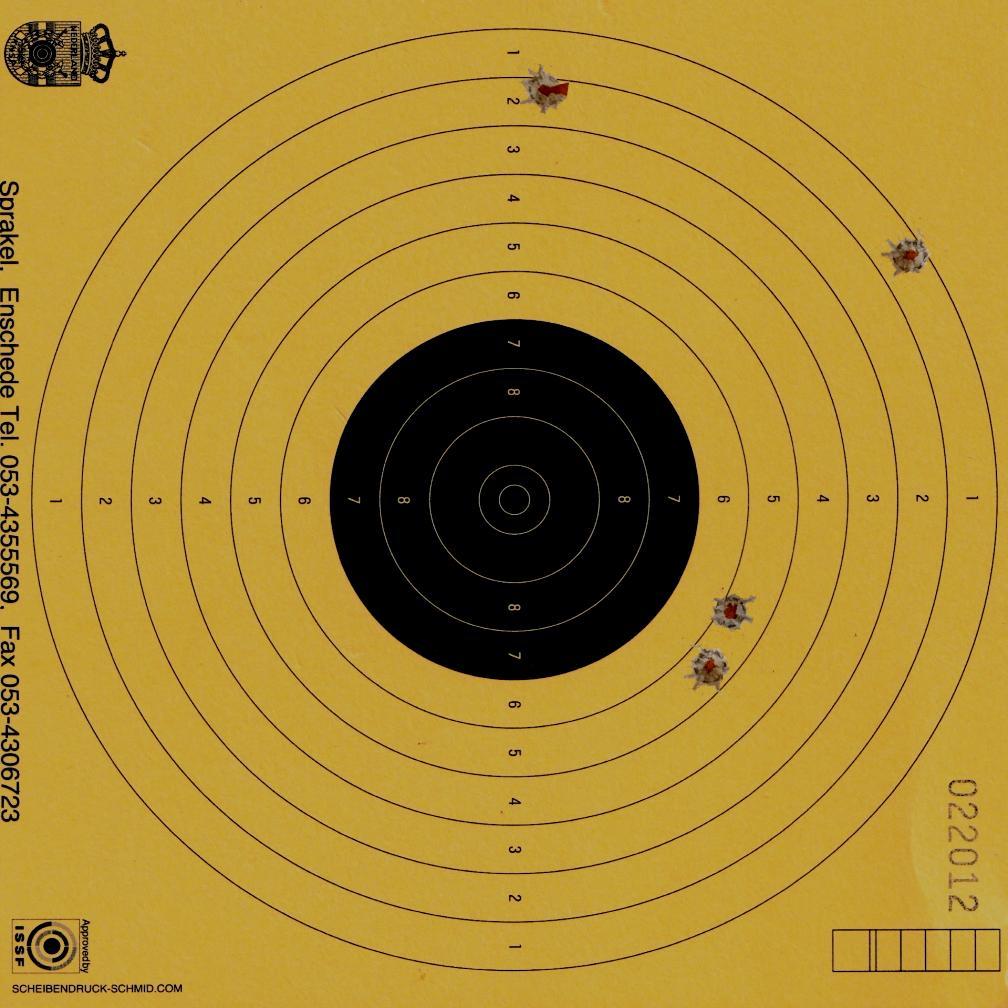1: (879, 227, 932, 282)
2: (515, 62, 572, 117)
6: (683, 642, 730, 692), (710, 593, 756, 631)
Target: (28, 24, 1002, 976)
black_contour: (327, 319, 699, 678)
